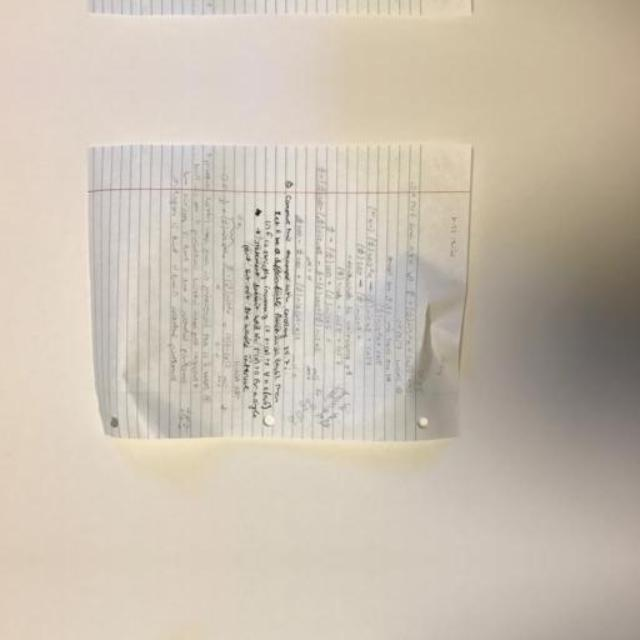paper: (70, 122, 487, 456), (69, 0, 486, 38)
